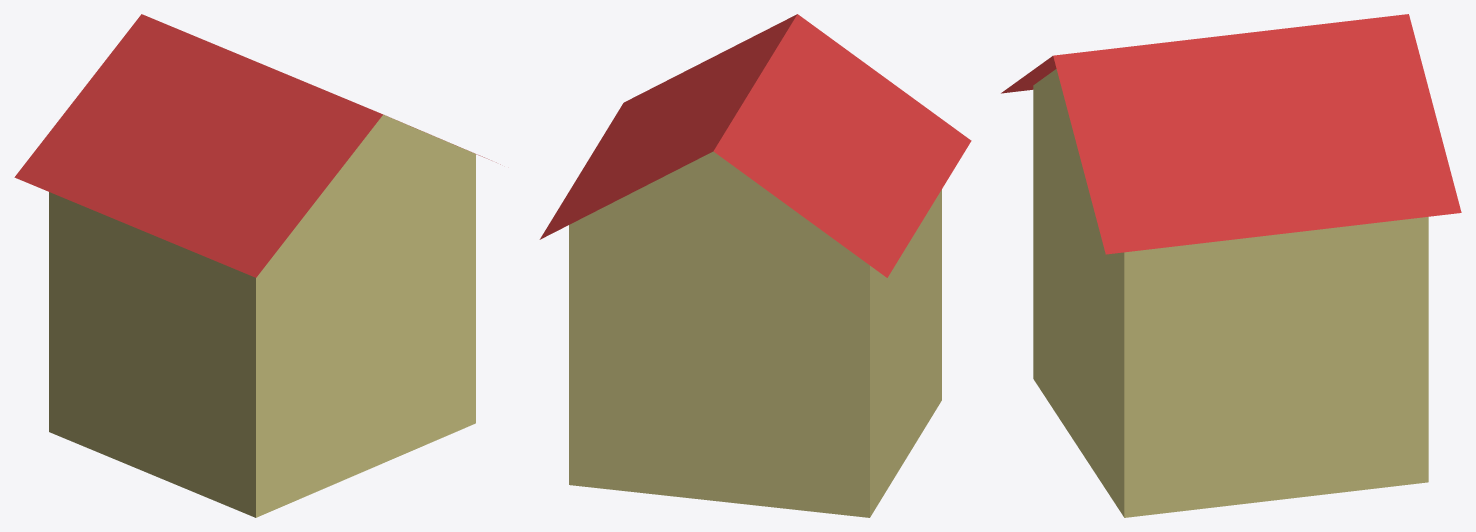
3 renders of one model, left to right at view 1: azimuth 30°, elevation 25°; view 2: azimuth 150°, elevation 25°; view 3: azimuth 270°, elevation 25°, orthographic. The views are drawn at different scales.
Visible parts, largest first — view 1: group_5, group_3, group_4; view 2: group_5, group_3, group_4; view 3: group_5, group_3, group_4.
Part boxes in pixels (x1,y1,x2,y2): group_5: (49,114,475,517); group_3: (14,14,382,277); group_4: (15,15,500,176); group_5: (569,151,941,517); group_3: (539,14,971,277); group_4: (662,14,886,277); group_5: (1033,69,1428,517); group_3: (1053,14,1461,254); group_4: (1001,14,1408,254).
Bounding box in the file's own units: 13.42 × 12.91 × 12.23.
